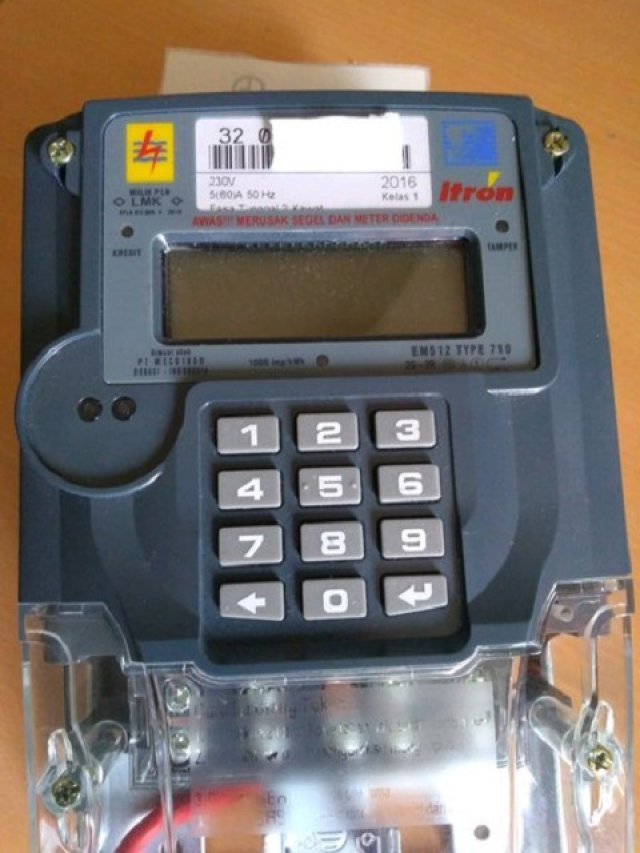box: (159, 243, 484, 340)
